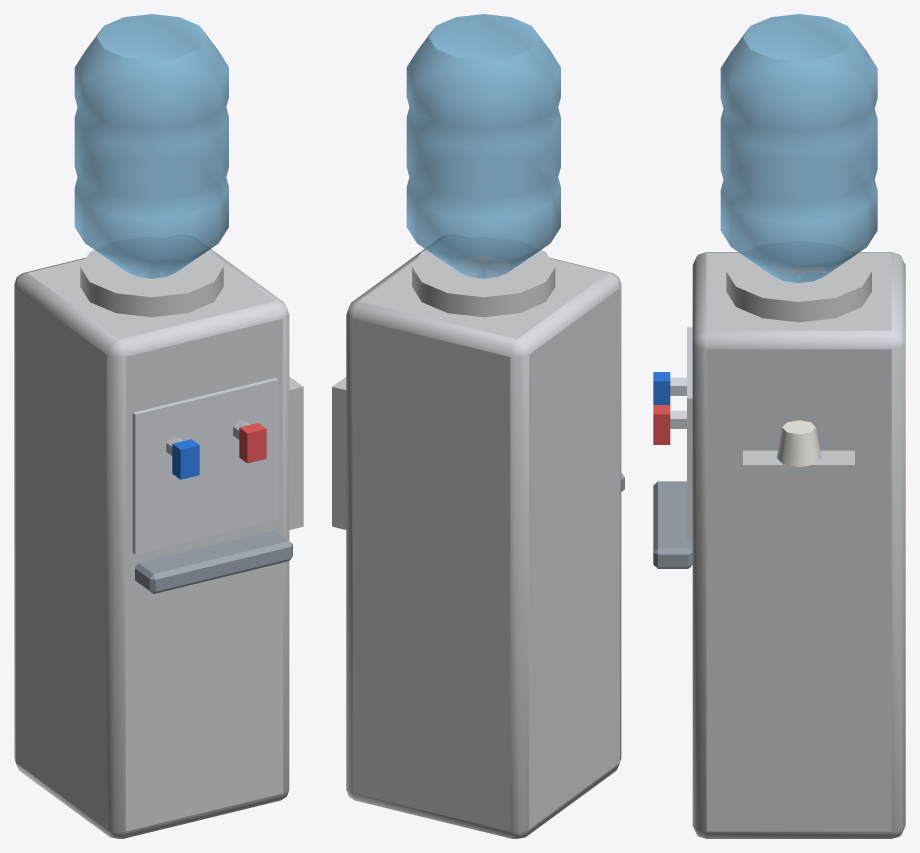
File: water_cooler.glb
3 renders of one model, left to right at view 1: azimuth 30°, elevation 25°; view 2: azimuth 150°, elevation 25°; view 3: azimuth 270°, elevation 25°, orthographic.
Parts seen in each view (by area): view 1: water_cooler; view 2: water_cooler; view 3: water_cooler.
Boxes of the visible parts, left/top/right/bottom form: water_cooler: left=14, top=14, right=303, bottom=838; water_cooler: left=332, top=14, right=624, bottom=838; water_cooler: left=653, top=14, right=905, bottom=838.
Size of the model in its own units: 0.46 by 1.5 by 0.45.
